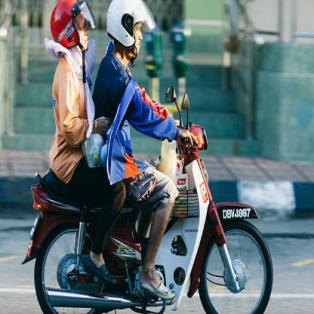Motocicleta: (32, 120, 276, 314)
